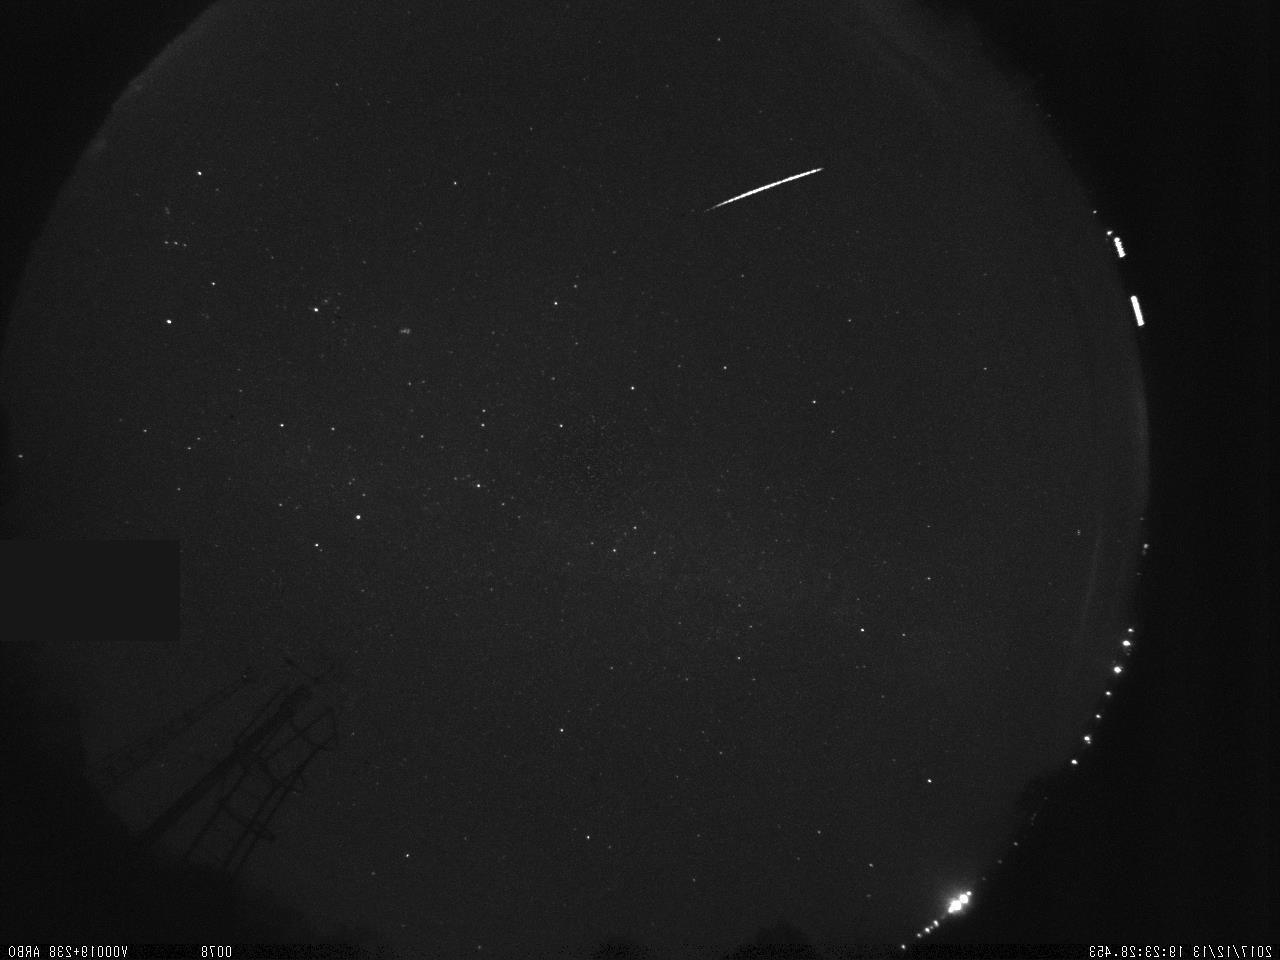meteor: (679, 153, 846, 228)
